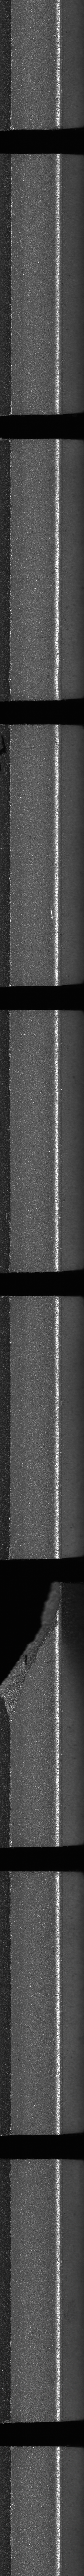Chip: (0, 1581, 63, 1715)
